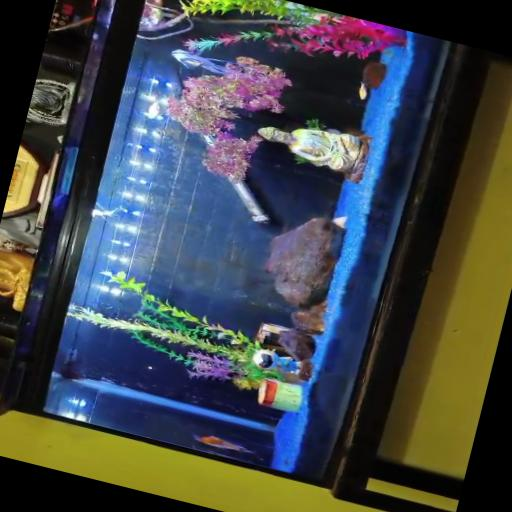Fish: (194, 434, 256, 453), (147, 100, 161, 118), (359, 81, 368, 98)
